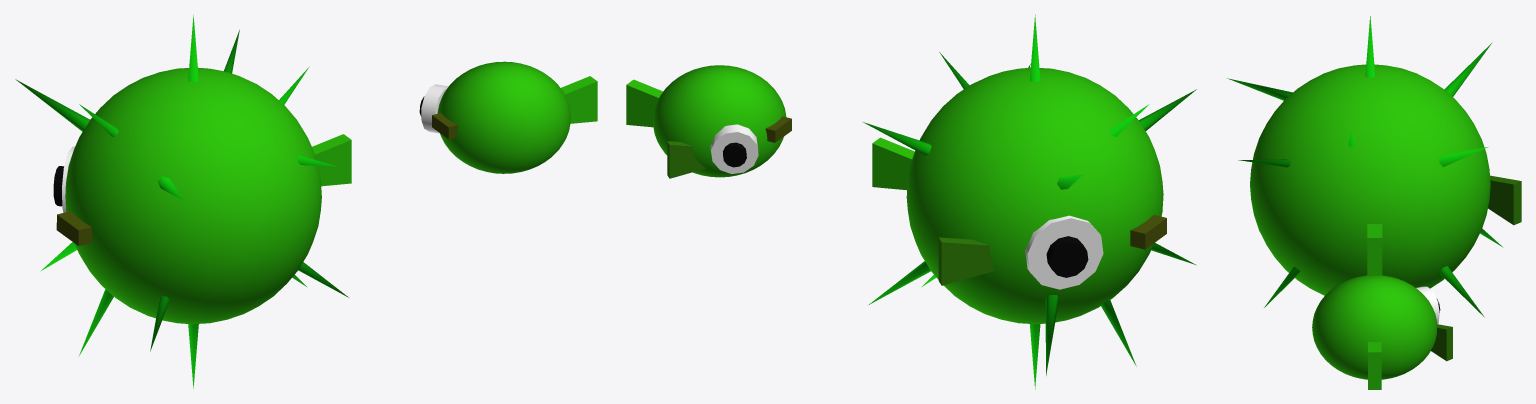
The model's file is Puffer.obj.
3 views of the same model, side by side, from view 1: azimuth 30°, elevation 25°; view 2: azimuth 150°, elevation 25°; view 3: azimuth 270°, elevation 25° (orthographic). The views are drawn at different scales.
Visible parts, largest first — view 1: Sphere (3), Cube (3), Cube, Cylinder, Cone, Cone (1), Cube (5), Cone (4); view 2: Sphere (3), Cylinder, Cube (4), Cylinder (1), Cube (3), Cube, Cube (1), Cone, Cube (5), Cone (1), Cone (11), Cone (6); view 3: Sphere (3), Cube (4), Cube (3), Cube, Cube (1), Cone (4), Cone (9), Cone (8), Cone, Cone (6), Cylinder, Cone (5).
Part boxes in pixels (x1,y1,x2,y2): Sphere (3): (65, 61, 570, 324); Cube (3): (312, 134, 351, 186); Cube: (561, 76, 597, 123); Cylinder: (62, 84, 448, 212); Cone: (78, 15, 307, 356); Cone (1): (79, 66, 309, 388); Cube (5): (56, 211, 92, 245); Cone (4): (15, 79, 89, 131); Sphere (3): (653, 65, 1163, 324); Cylinder: (710, 124, 1103, 289); Cube (4): (938, 237, 994, 285); Cylinder (1): (723, 142, 1088, 277); Cube (3): (872, 137, 914, 190); Cube: (626, 79, 662, 127); Cube (1): (667, 141, 706, 178); Cone: (921, 14, 1136, 365); Cube (5): (1130, 215, 1166, 249); Cone (1): (939, 52, 1149, 389); Cone (11): (1045, 295, 1059, 375); Cone (6): (863, 122, 931, 155); Sphere (3): (1250, 64, 1490, 379); Cube (4): (1488, 175, 1521, 225); Cube (3): (1367, 224, 1382, 275); Cube: (1368, 342, 1381, 389); Cube (1): (1431, 324, 1452, 361); Cone (4): (1444, 42, 1492, 96); Cone (9): (1439, 266, 1484, 317); Cone (8): (1227, 78, 1292, 100); Cone: (1365, 16, 1375, 77); Cone (6): (1439, 147, 1487, 166); Cylinder: (1416, 286, 1439, 324); Cone (5): (1264, 267, 1300, 307).
Size of the model in its own units: 9.08 by 6.2 by 4.71.
